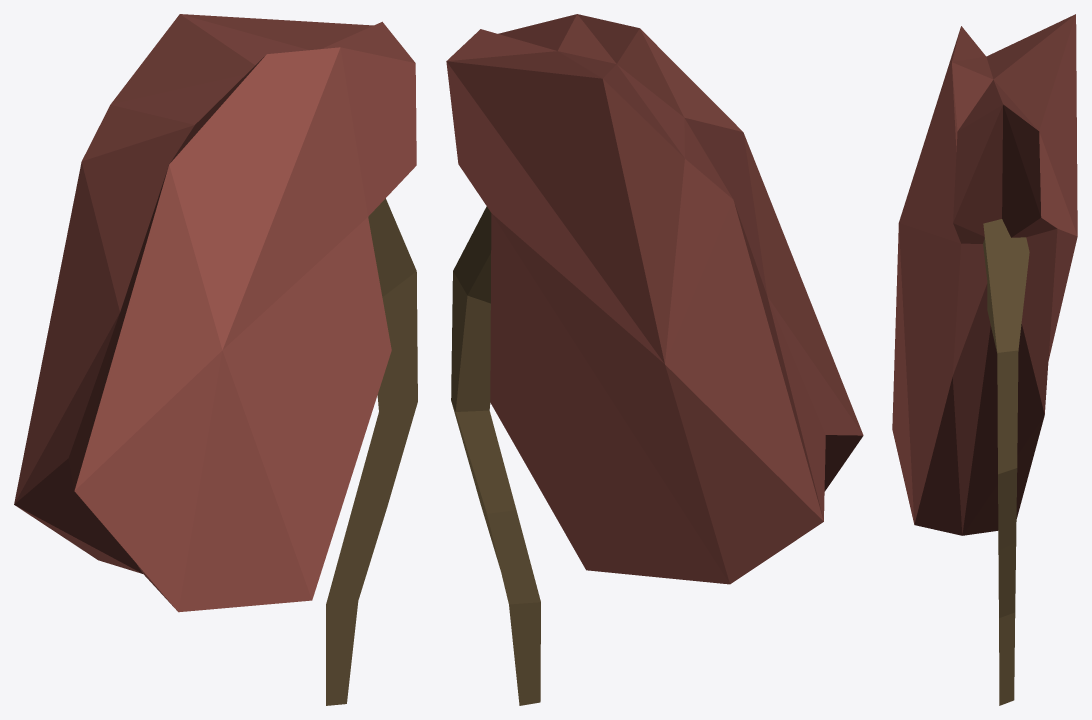
Rendered from Beans_0.fbx.
The picture shows the model from 3 angles, left to right: view 1: azimuth 30°, elevation 25°; view 2: azimuth 150°, elevation 25°; view 3: azimuth 270°, elevation 25°; orthographic projection. The views are drawn at different scales.
Visible parts, largest first — view 1: Beans_1; view 2: Beans_1; view 3: Beans_1.
Boxes of the visible parts, <box> form: Beans_1: <box>14,14,417,705</box>; Beans_1: <box>446,14,863,705</box>; Beans_1: <box>892,14,1077,705</box>.
Bounding box in the file's own units: 16.83 × 28.42 × 7.51.
